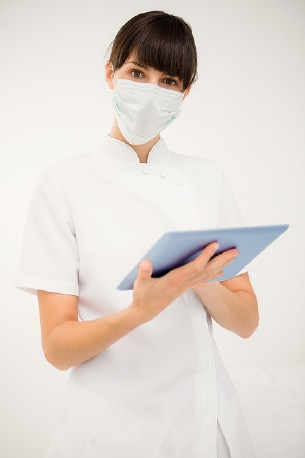Mask: (107, 56, 189, 137)
